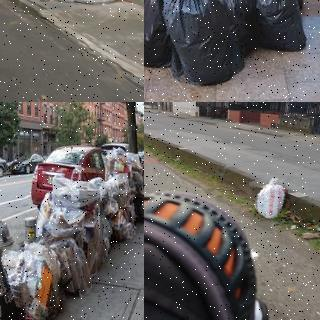Garbage: (158, 0, 241, 86), (32, 191, 95, 294), (0, 237, 65, 320), (55, 176, 112, 262), (244, 0, 310, 53), (144, 0, 177, 66), (251, 174, 292, 221), (102, 143, 131, 187), (91, 176, 120, 214)
